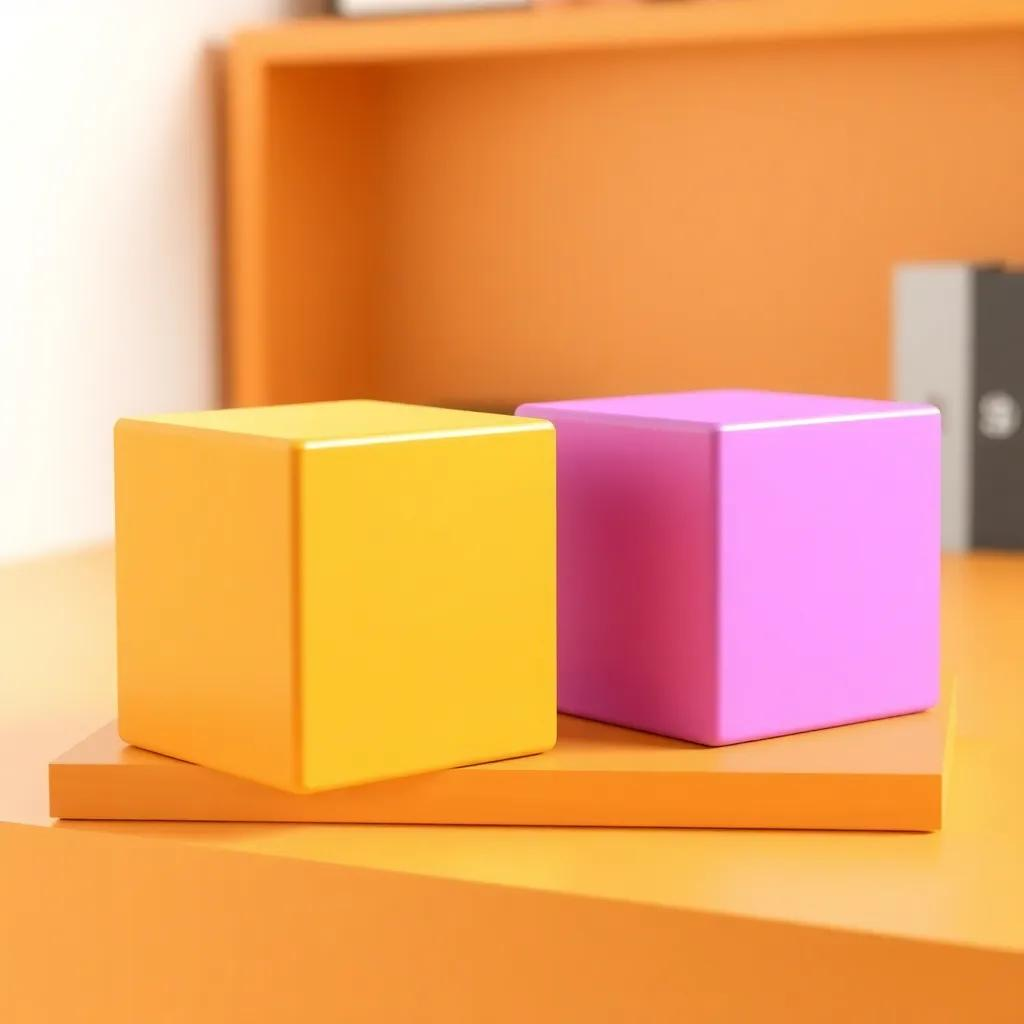cube: (112, 396, 558, 794), (514, 386, 943, 747)
